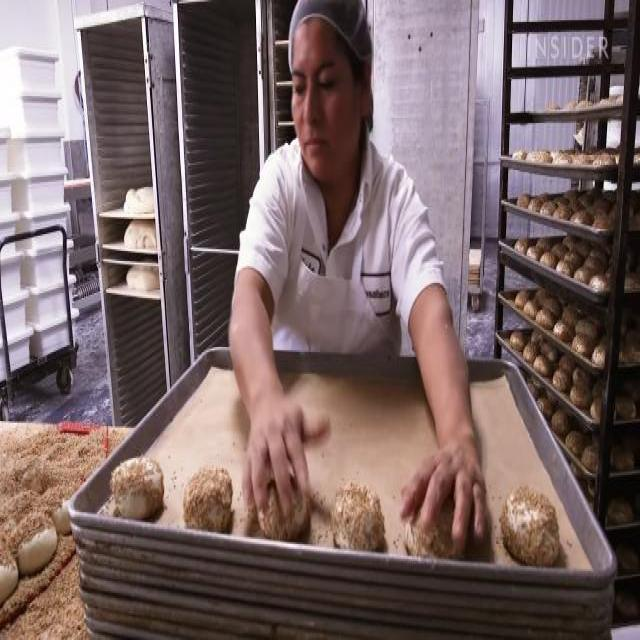bare_hand: (227, 382, 327, 514), (398, 421, 499, 549)
